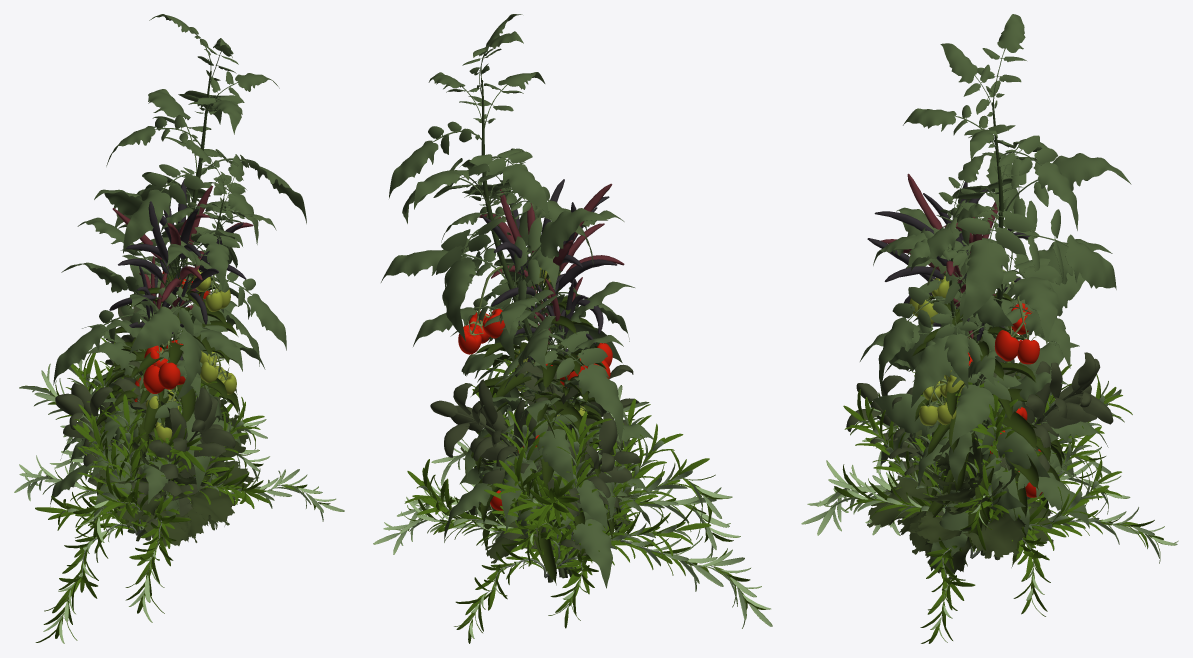
The model's file is green_tom_t.glb.
3 views of the same model, side by side, from view 1: azimuth 30°, elevation 25°; view 2: azimuth 150°, elevation 25°; view 3: azimuth 270°, elevation 25° (orthographic). The views are drawn at different scales.
Parts seen in each view (by area): view 1: TOMATO 18092019 2, rosemary 021023 1, TOMATO 18092019 2.001, Red pepper 24092019 2, basil 13032021 008, Lettuce 13032019 006, Red pepper 24092019 5; view 2: TOMATO 18092019 2, rosemary 021023 1, TOMATO 18092019 2.001, Red pepper 24092019 2, basil 13032021 008, Red pepper 24092019 5, Lettuce 13032019 006; view 3: TOMATO 18092019 2, TOMATO 18092019 2.001, rosemary 021023 1, Red pepper 24092019 2, Lettuce 13032019 006, basil 13032021 008.
Boxes of the visible parts, x1,y1,x2,y2 form: TOMATO 18092019 2: (50,14,306,533); rosemary 021023 1: (14,337,344,643); TOMATO 18092019 2.001: (60,140,286,517); Red pepper 24092019 2: (96,179,253,535); basil 13032021 008: (55,291,235,540); Lettuce 13032019 006: (98,396,258,546); Red pepper 24092019 5: (92,256,198,495); TOMATO 18092019 2: (381,14,656,588); rosemary 021023 1: (373,348,772,643); TOMATO 18092019 2.001: (441,148,649,569); Red pepper 24092019 2: (465,179,624,585); basil 13032021 008: (430,350,640,582); Red pepper 24092019 5: (512,277,620,572); Lettuce 13032019 006: (460,401,638,577); TOMATO 18092019 2: (873,14,1131,570); TOMATO 18092019 2.001: (860,154,1075,535); rosemary 021023 1: (801,362,1178,643); Red pepper 24092019 2: (867,173,1064,567); Lettuce 13032019 006: (867,397,1053,579); basil 13032021 008: (846,330,1113,560).
Bounding box in the file's own units: 0.5659 × 0.9197 × 0.5189.
